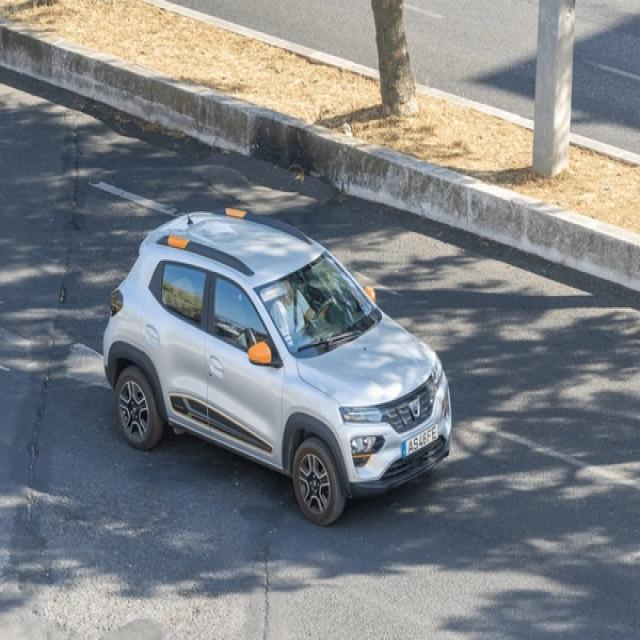nissan: (409, 396, 424, 422)
